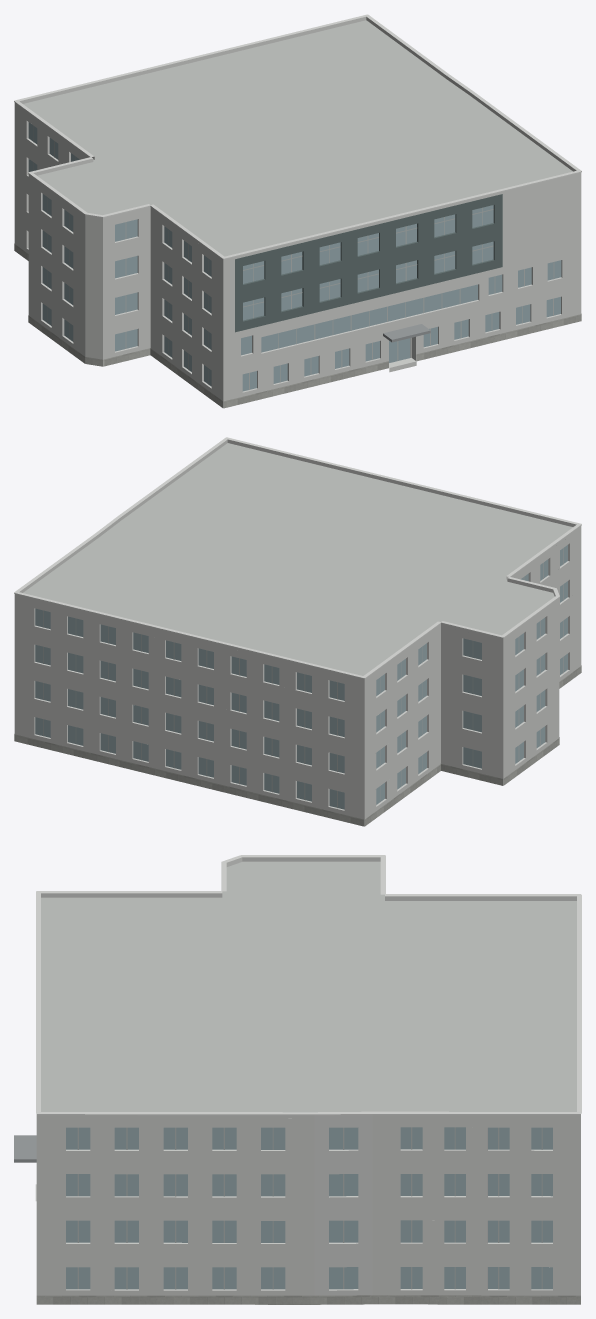
3 views of the same model, one above another, from view 1: azimuth 30°, elevation 25°; view 2: azimuth 150°, elevation 25°; view 3: azimuth 270°, elevation 25° (orthographic). The views are drawn at different scales.
Parts seen in each view (by area): view 1: b115951783__roof, b115951783__wall, b115951783__glass, b115951783__wall2, b115951783__trim, b115951783__parapet, b115951783__base, b115951783__frame; view 2: b115951783__roof, b115951783__wall, b115951783__glass, b115951783__trim, b115951783__base, b115951783__parapet, b115951783__frame; view 3: b115951783__roof, b115951783__wall, b115951783__glass, b115951783__trim, b115951783__base, b115951783__parapet, b115951783__frame, b115951783__canopy.
Boxes of the visible parts, x1,y1,x2,y2 form: b115951783__roof: (23, 20, 572, 408); b115951783__wall: (14, 105, 581, 407); b115951783__glass: (28, 122, 561, 391); b115951783__wall2: (235, 194, 502, 332); b115951783__trim: (14, 14, 581, 259); b115951783__parapet: (14, 16, 581, 261); b115951783__base: (14, 243, 581, 408); b115951783__frame: (33, 126, 554, 389); b115951783__roof: (23, 443, 572, 675); b115951783__wall: (14, 528, 581, 826); b115951783__glass: (35, 545, 567, 809); b115951783__trim: (14, 437, 581, 678); b115951783__base: (14, 665, 581, 826); b115951783__parapet: (14, 439, 581, 681); b115951783__frame: (43, 548, 563, 808); b115951783__roof: (41, 861, 576, 1304); b115951783__wall: (36, 1118, 580, 1295); b115951783__glass: (66, 1127, 552, 1289); b115951783__trim: (36, 855, 581, 1115); b115951783__base: (36, 1295, 580, 1304); b115951783__parapet: (36, 857, 580, 1118); b115951783__frame: (77, 1127, 542, 1289); b115951783__canopy: (14, 1135, 36, 1162).
Size of the model in its own units: 43.02 by 15.15 by 39.83.
Materials: 11 (1 with a texture image).
